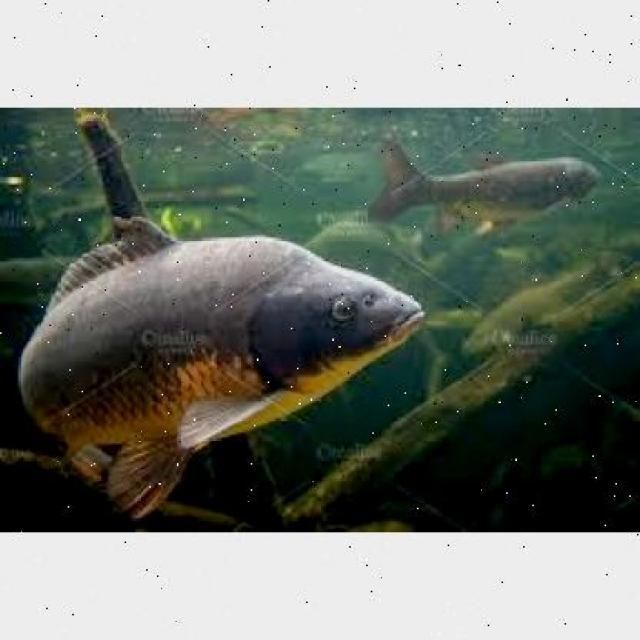ikan-mas: (0, 216, 431, 516)
